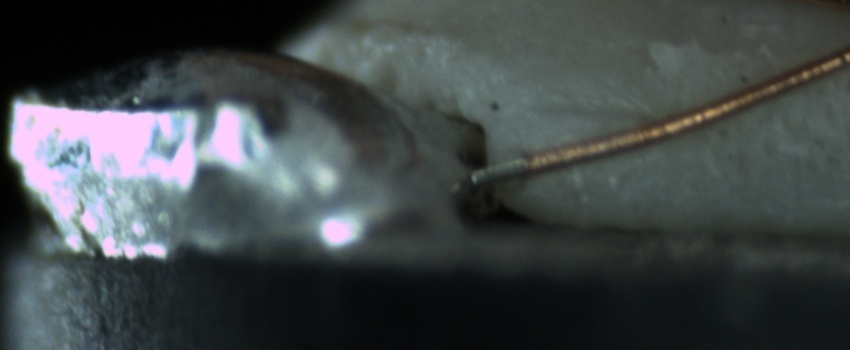DL: (516, 80, 649, 142)
TS: (468, 157, 524, 185)
